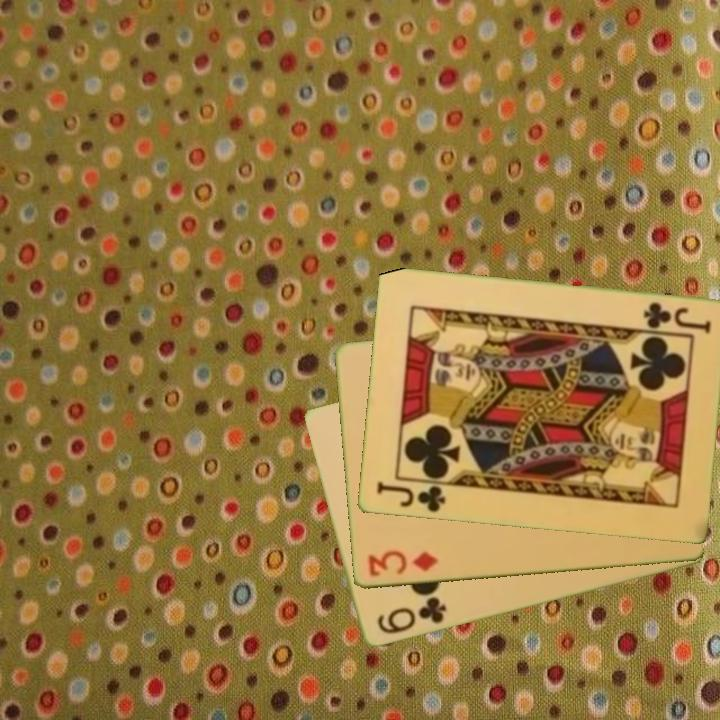3d: (364, 548, 441, 580)
6c: (373, 593, 449, 638)
Jc: (372, 479, 453, 515), (639, 299, 714, 335)
